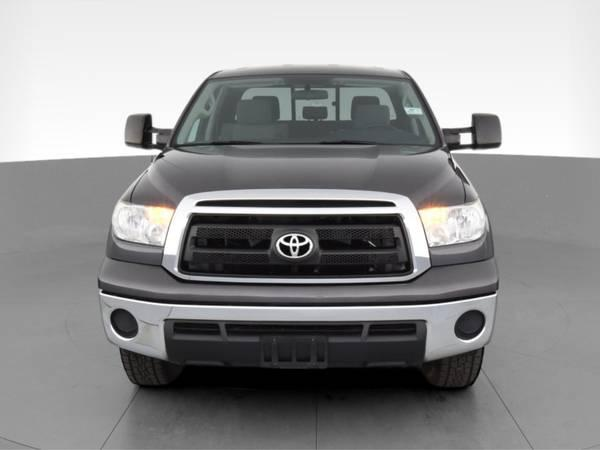Front_Bumper: (98, 234, 498, 376)
Front_Windshield: (168, 71, 441, 147)
Grille: (164, 189, 434, 287)
Hood: (116, 140, 478, 208)
Left_Headlight: (418, 196, 489, 247)
Left_Mirror: (442, 110, 502, 151)
Right_Headlight: (110, 195, 177, 245)
Right_Mirror: (120, 111, 170, 152)
